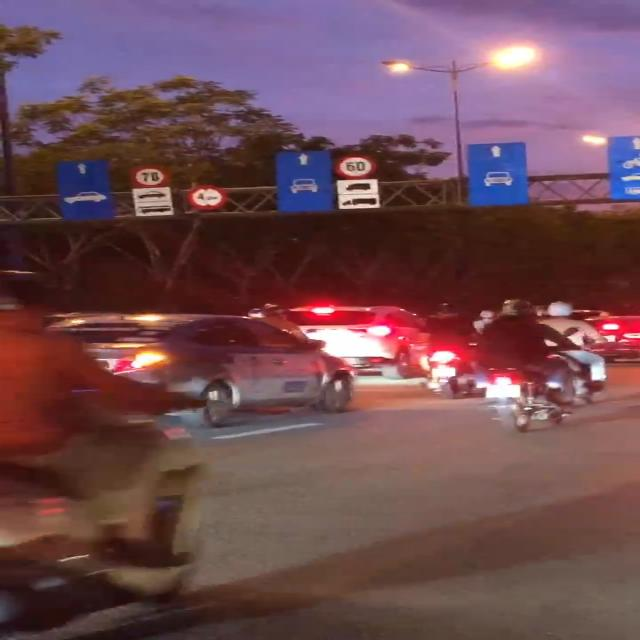Bien bao toc do toi da cho phep: (327, 150, 380, 181), (126, 163, 174, 190)
